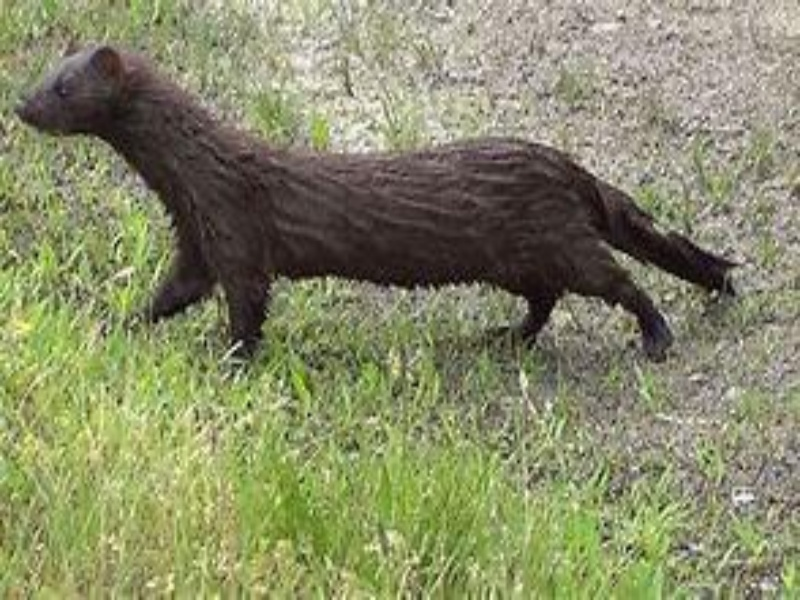minkish: (12, 38, 746, 366)
